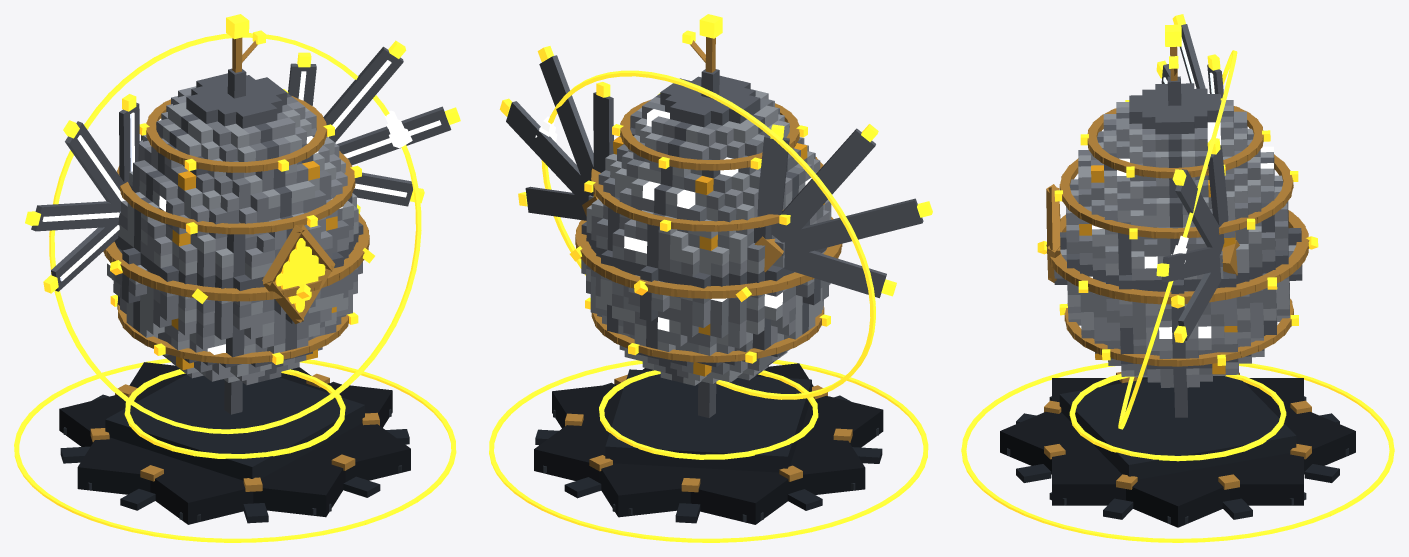
File: egg_epico_mecanico.glb
The picture shows the model from 3 angles, left to right: view 1: azimuth 30°, elevation 25°; view 2: azimuth 150°, elevation 25°; view 3: azimuth 270°, elevation 25°; orthographic projection. The views are drawn at different scales.
Parts seen in each view (by area): view 1: shell_geo, root_geo, egg_geo, wing_L_geo, wing_R_geo, orbit1_geo, floor_rings_geo, emblem_geo, crown_geo; view 2: shell_geo, root_geo, wing_R_geo, egg_geo, wing_L_geo, orbit1_geo, floor_rings_geo, crown_geo; view 3: shell_geo, root_geo, egg_geo, wing_L_geo, floor_rings_geo, orbit1_geo, wing_R_geo, emblem_geo, crown_geo.
Boxes of the visible parts, bbox=[...] form: shell_geo: bbox=[107, 68, 363, 414]; root_geo: bbox=[59, 362, 410, 524]; egg_geo: bbox=[103, 89, 374, 364]; wing_L_geo: bbox=[288, 40, 460, 206]; wing_R_geo: bbox=[25, 94, 139, 293]; orbit1_geo: bbox=[49, 33, 421, 433]; floor_rings_geo: bbox=[14, 358, 456, 542]; emblem_geo: bbox=[262, 224, 335, 323]; crown_geo: bbox=[226, 14, 265, 72]; shell_geo: bbox=[581, 69, 831, 417]; root_geo: bbox=[534, 363, 883, 524]; wing_R_geo: bbox=[754, 124, 932, 298]; egg_geo: bbox=[569, 93, 842, 363]; wing_L_geo: bbox=[499, 46, 613, 220]; orbit1_geo: bbox=[535, 70, 875, 399]; floor_rings_geo: bbox=[489, 360, 928, 542]; crown_geo: bbox=[682, 14, 722, 72]; shell_geo: bbox=[1054, 76, 1302, 417]; root_geo: bbox=[1000, 372, 1355, 527]; egg_geo: bbox=[1037, 98, 1318, 366]; wing_L_geo: bbox=[1156, 138, 1239, 342]; floor_rings_geo: bbox=[961, 363, 1394, 542]; orbit1_geo: bbox=[1118, 50, 1237, 429]; wing_R_geo: bbox=[1156, 14, 1223, 98]; emblem_geo: bbox=[1046, 184, 1060, 282]; crown_geo: bbox=[1165, 24, 1181, 80].
Bounding box in the file's own units: 8.29 × 7.9 × 7.31.
